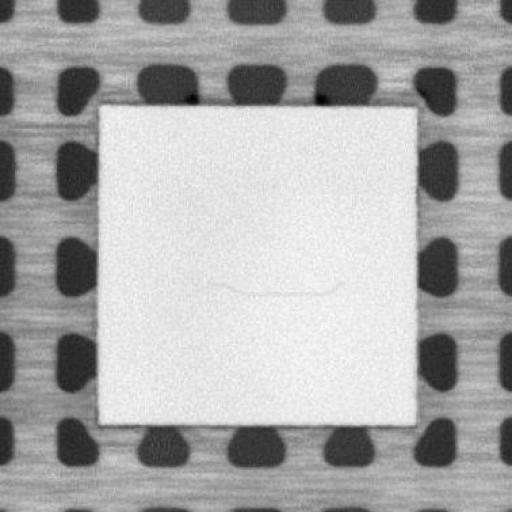DIE_CRACK: (203, 273, 347, 300)
